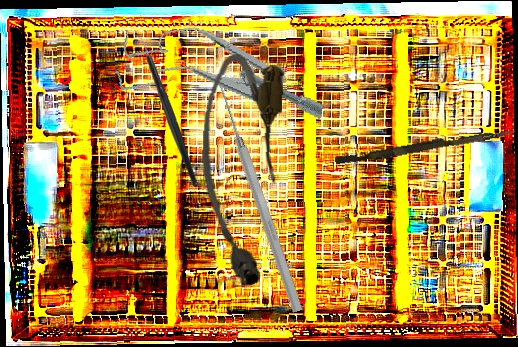Cannula: (195, 52, 285, 289)
Chopper: (130, 31, 198, 187)
Pusher: (213, 82, 306, 314), (334, 122, 516, 170)
Speculum: (111, 11, 335, 136)
